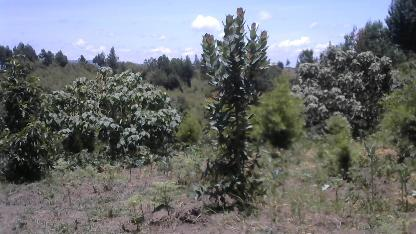tree: (197, 6, 275, 210), (46, 65, 185, 170), (295, 38, 404, 147)
